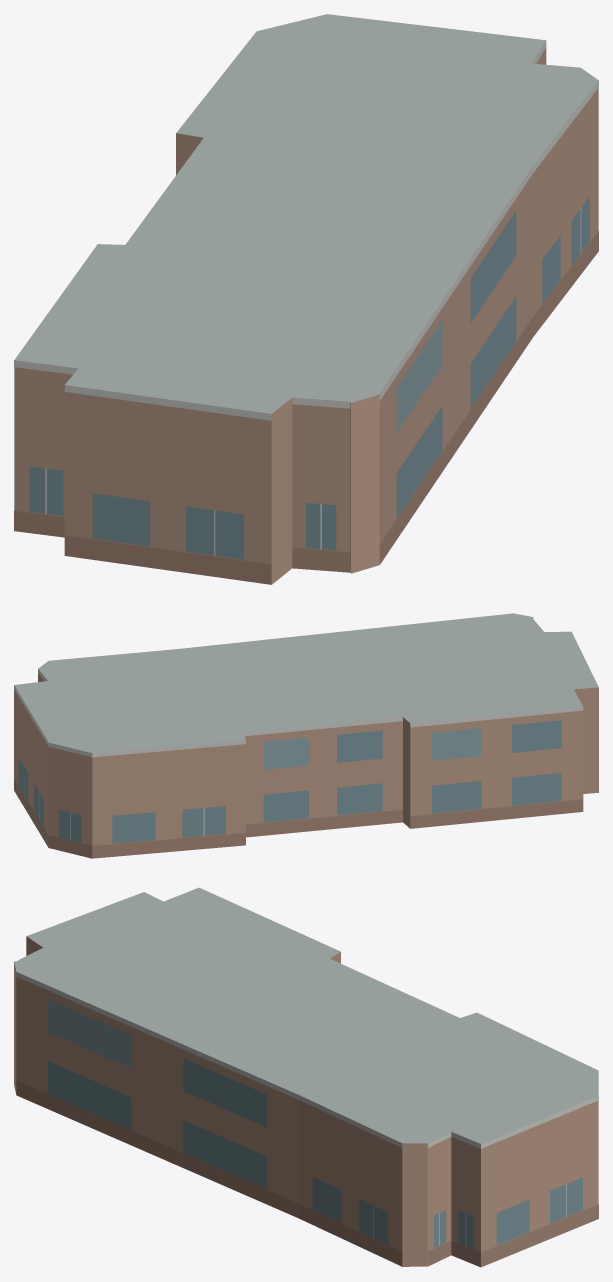
The model's file is survey-upis-32944629.glb.
The picture shows the model from 3 angles, top to bottom: view 1: azimuth 30°, elevation 25°; view 2: azimuth 150°, elevation 25°; view 3: azimuth 270°, elevation 25°; orthographic projection. The views are drawn at different scales.
Visible parts, largest first — view 1: survey-upis-32944629.tmp; view 2: survey-upis-32944629.tmp; view 3: survey-upis-32944629.tmp.
Part boxes in pixels (<box>): survey-upis-32944629.tmp: <box>14,14,598,584</box>; survey-upis-32944629.tmp: <box>14,613,598,858</box>; survey-upis-32944629.tmp: <box>14,887,598,1267</box>.
Size of the model in its own units: 27.18 by 6.1 by 26.19.
